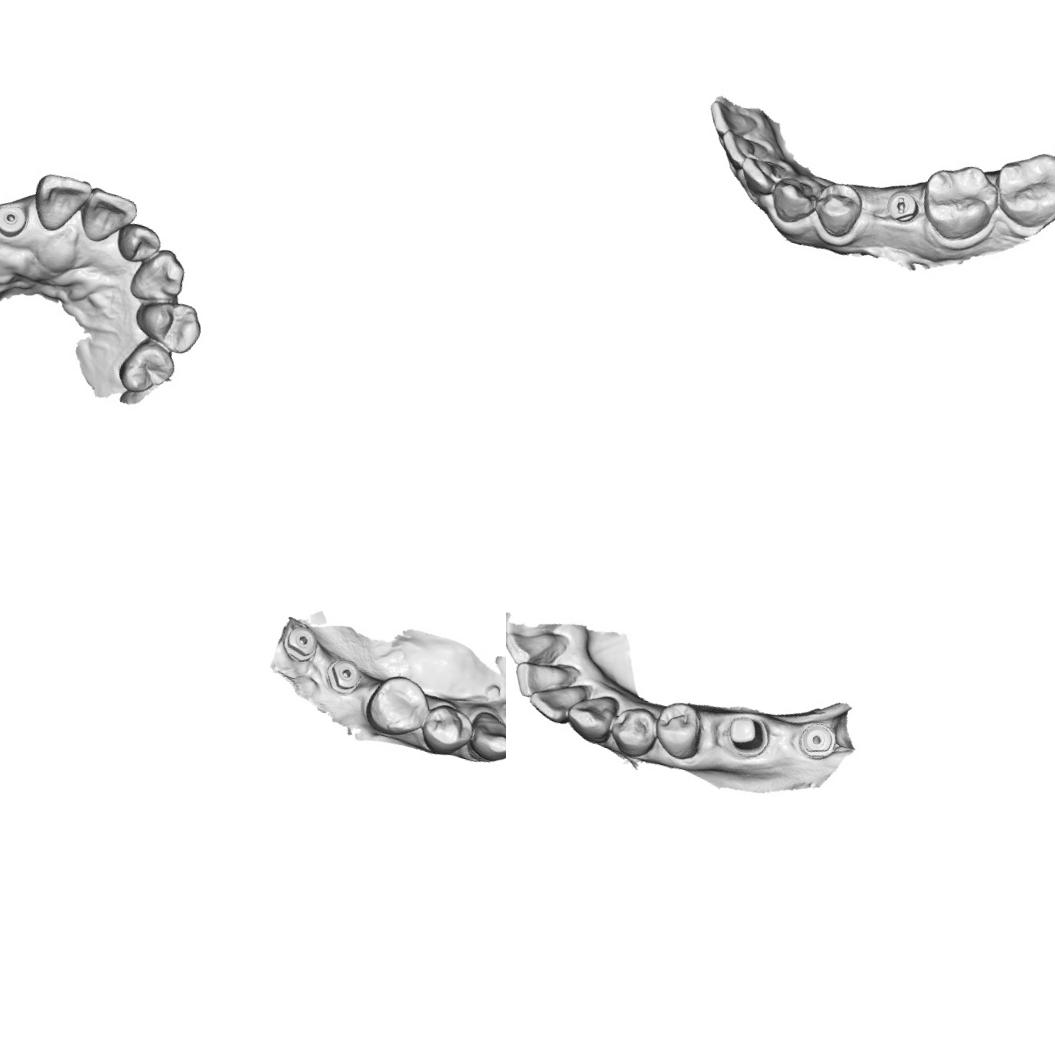abutment: (720, 710, 774, 760)
canine: (125, 240, 190, 310), (560, 683, 621, 748), (764, 170, 822, 229), (462, 706, 506, 770)
implant: (793, 715, 842, 764), (320, 652, 367, 698), (276, 620, 322, 666), (0, 197, 31, 241)
implant_minus: (880, 184, 922, 228)
incisor: (24, 166, 95, 239), (73, 184, 141, 250), (524, 670, 589, 728), (507, 654, 572, 708), (714, 126, 773, 177), (506, 619, 560, 673), (732, 152, 790, 202), (702, 98, 762, 144), (110, 218, 164, 268)
molar: (910, 152, 1006, 250), (983, 140, 1055, 237)
premolar: (358, 667, 436, 744), (127, 290, 208, 356), (112, 334, 181, 403), (646, 694, 710, 764), (414, 698, 478, 763), (806, 175, 867, 242), (604, 699, 662, 763)
